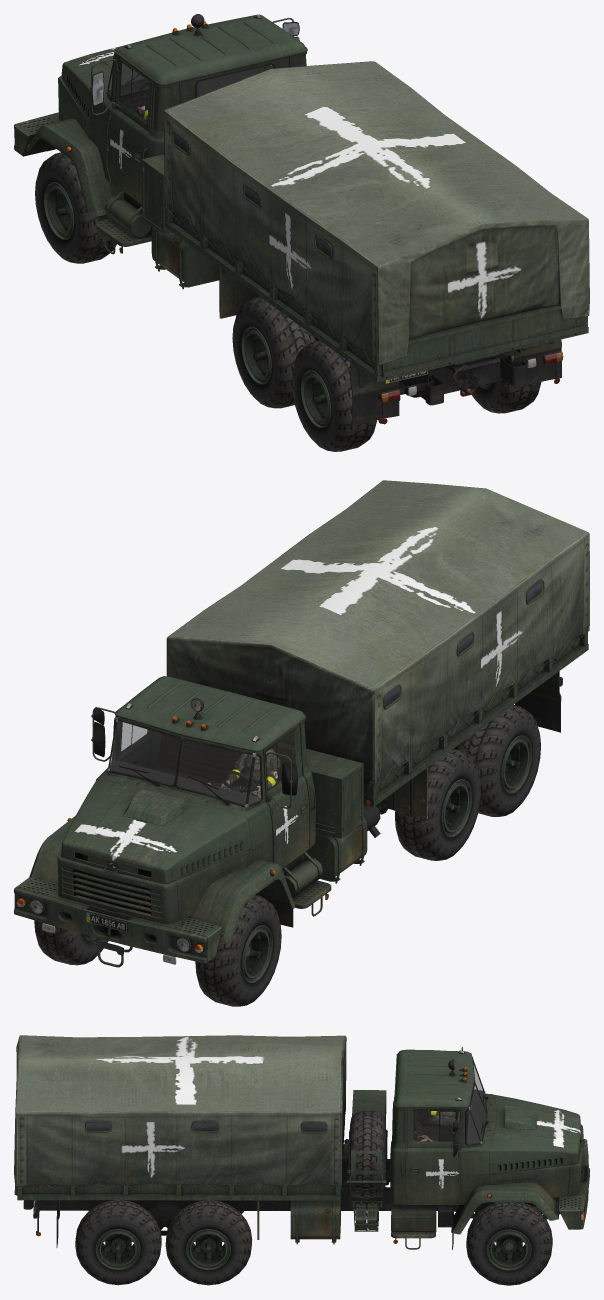
The model's file is ukrainian_kraz-6322.glb.
3 views of the same model, one above another, from view 1: azimuth 30°, elevation 25°; view 2: azimuth 150°, elevation 25°; view 3: azimuth 270°, elevation 25° (orthographic). The views are drawn at different scales.
Parts seen in each view (by area): view 1: Object_4, Object_5; view 2: Object_4, Object_5, Object_3; view 3: Object_4, Object_5, Object_3.
Part boxes in pixels (x1=…): Object_4: x1=14, y1=14, x2=589, y2=451; Object_5: x1=93, y1=23, x2=329, y2=256; Object_4: x1=14, y1=480, x2=589, y2=1006; Object_5: x1=110, y1=582, x2=542, y2=804; Object_3: x1=221, y1=748, x2=280, y2=798; Object_4: x1=14, y1=1035, x2=589, y2=1285; Object_5: x1=87, y1=1063, x2=485, y2=1143; Object_3: x1=416, y1=1111, x2=455, y2=1132.
Size of the model in its own units: 2.93 by 3.34 by 9.06.
4 materials, 4 textured.
